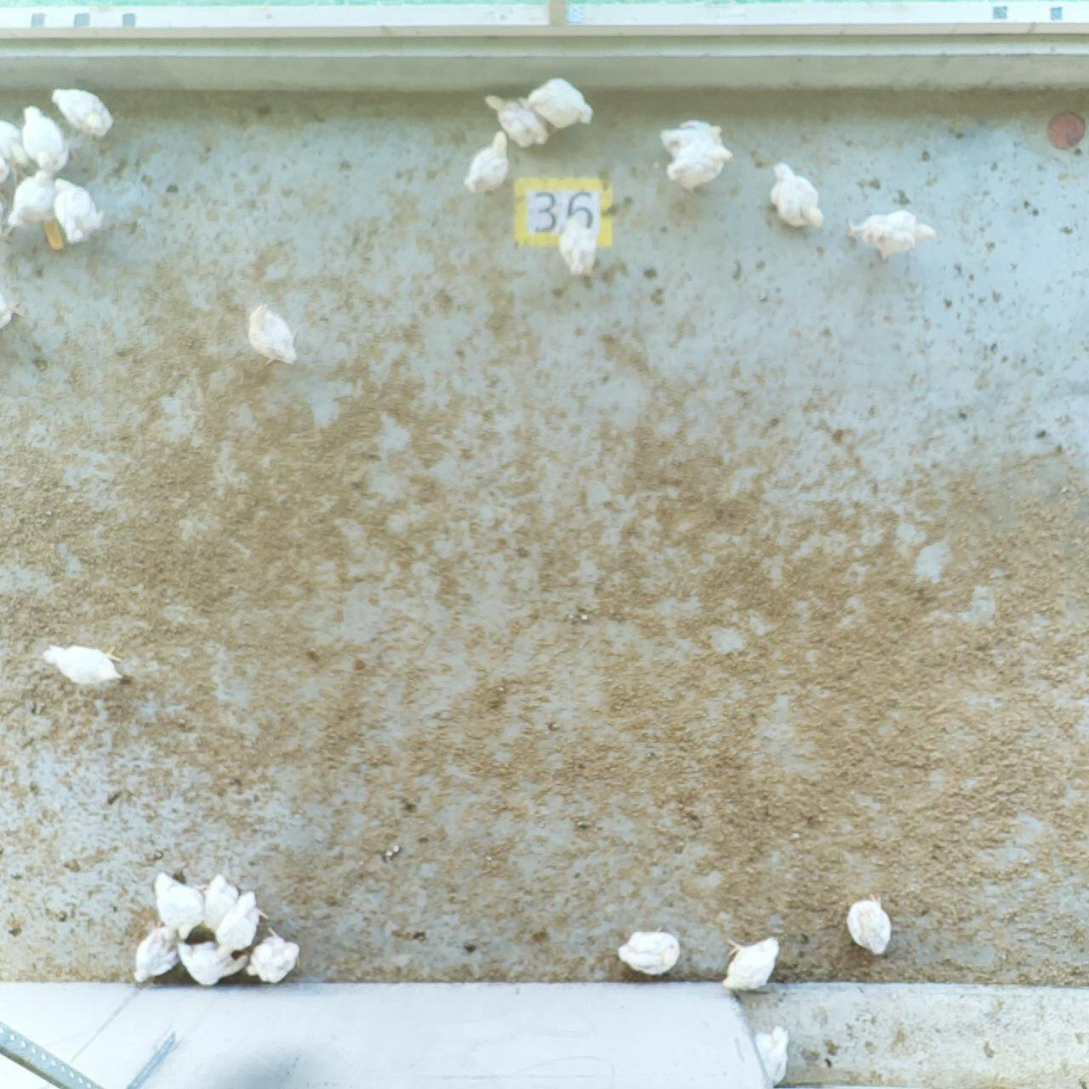chicken: (841, 196, 936, 264), (232, 298, 306, 371), (44, 164, 108, 248), (519, 71, 600, 136), (143, 861, 206, 944), (37, 638, 131, 693), (455, 121, 513, 205), (717, 928, 786, 998), (12, 100, 73, 178), (611, 917, 687, 979), (481, 90, 552, 155), (763, 160, 827, 232), (0, 163, 55, 246), (840, 887, 898, 963), (170, 936, 250, 989), (49, 84, 117, 146), (243, 921, 304, 987), (126, 920, 185, 988), (217, 889, 268, 958), (191, 869, 241, 938), (554, 211, 600, 283), (661, 113, 728, 161), (0, 117, 36, 177)
